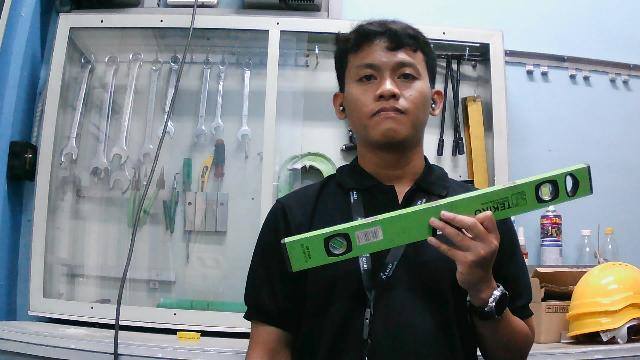water_pass: (279, 161, 599, 277)
